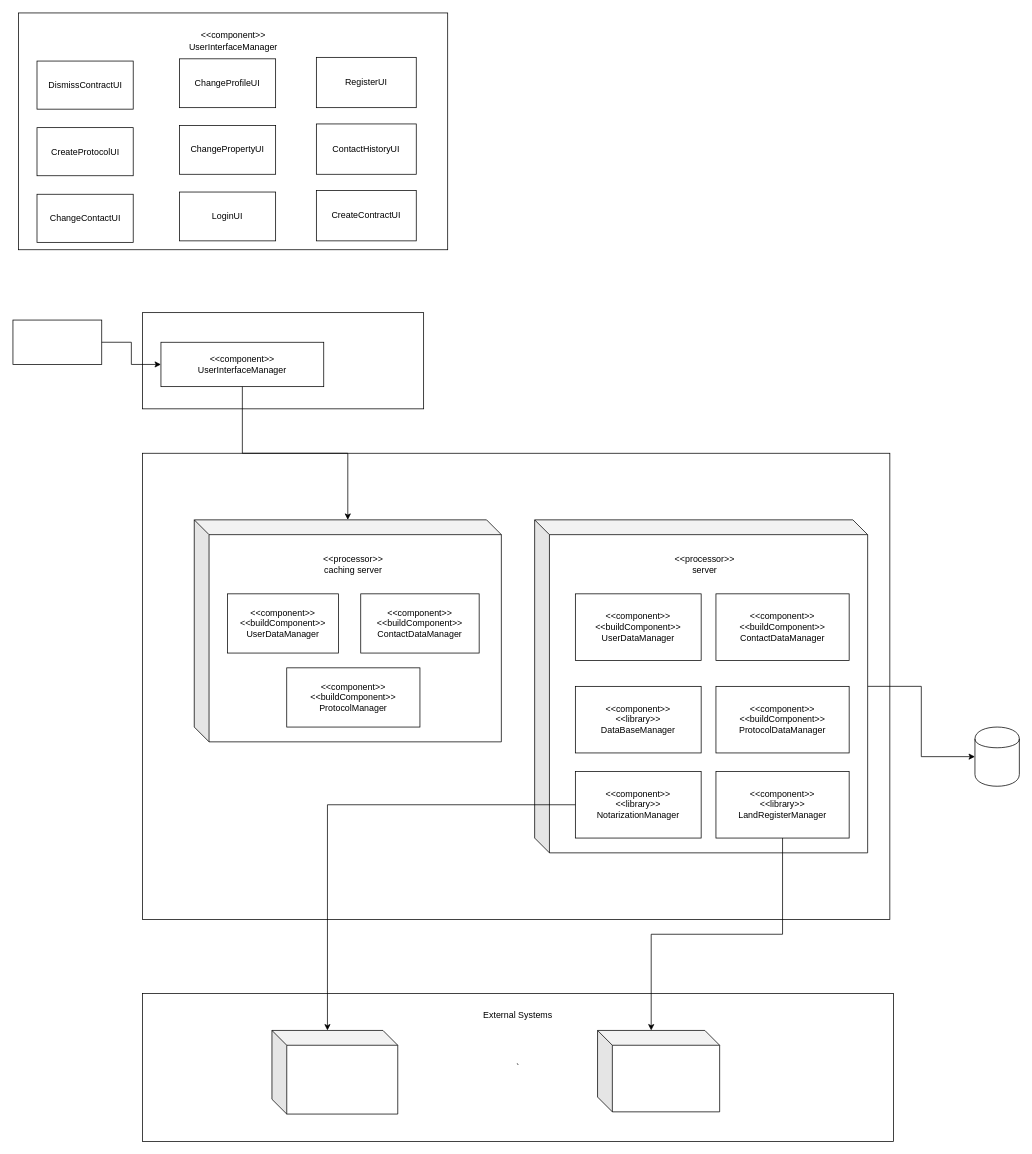
The diagram is 1032 pixels wide and 1154 high, and some of its shapes have lost their labels. Here are the shapes that lost their labels. From the top down, the centre of each, then its label:
pixel 57 341: PC
pixel 996 756: DB
pixel 334 1072: NotarizationSystemr
pixel 658 1071: LandRegisterSystem
